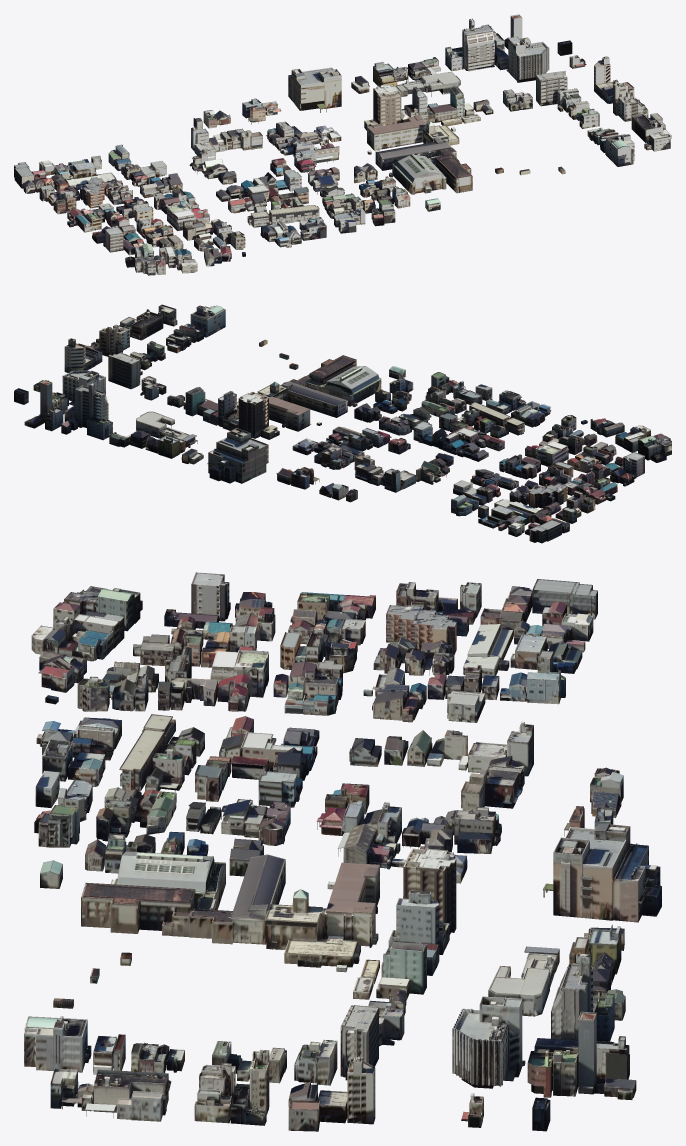
The model's file is 2023-lod3-station-6-0-packed.glb.
3 views of the same model, one above another, from view 1: azimuth 30°, elevation 25°; view 2: azimuth 150°, elevation 25°; view 3: azimuth 270°, elevation 25° (orthographic). The views are drawn at different scales.
Bounding box in the file's own units: 488 × 41.94 × 246.
5 materials, 4 textured.
